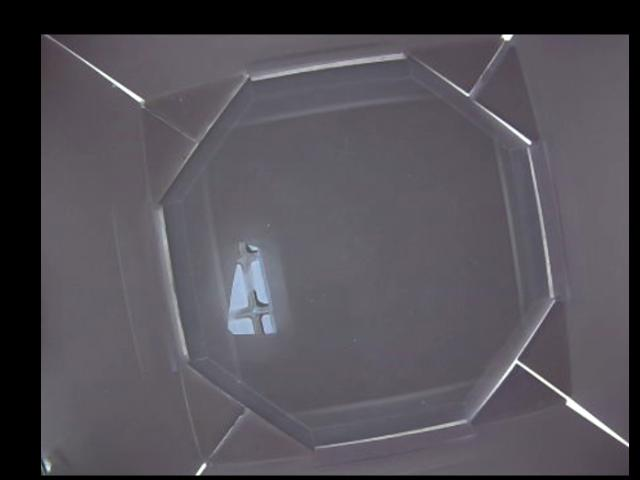China: (224, 244, 277, 334)
